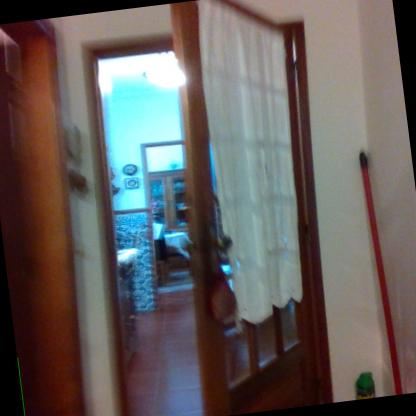semi: (59, 0, 360, 415)
